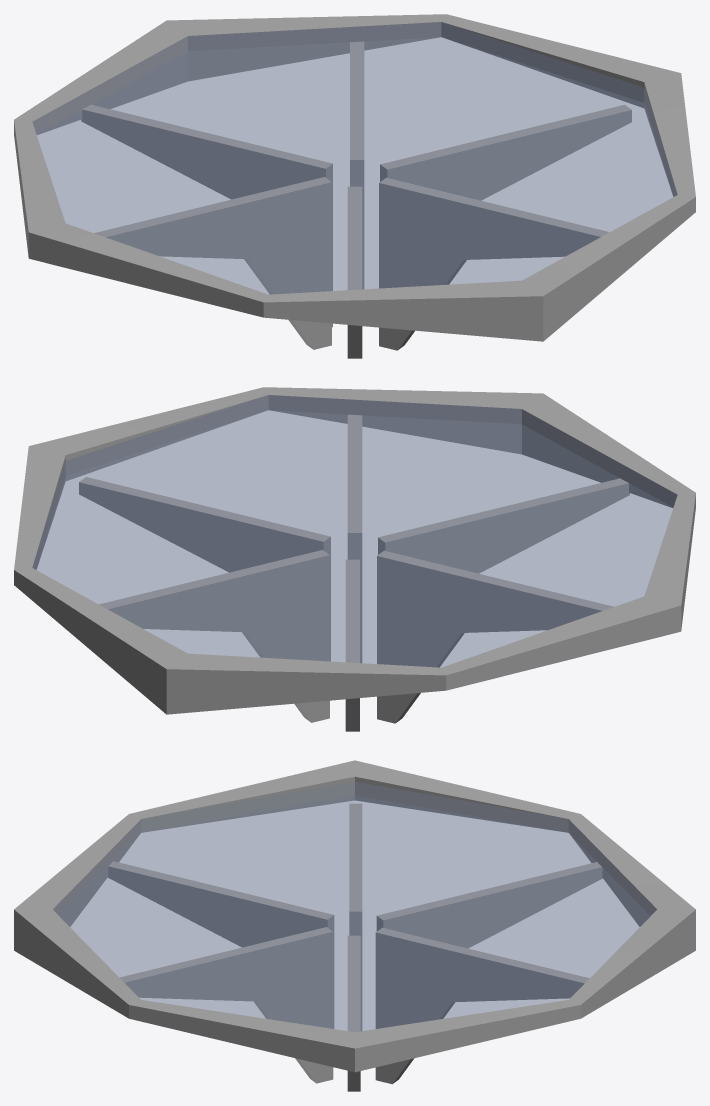
The model's file is CirclePlatform.fbx.
The picture shows the model from 3 angles, top to bottom: view 1: azimuth 30°, elevation 25°; view 2: azimuth 150°, elevation 25°; view 3: azimuth 270°, elevation 25°; orthographic projection. The views are drawn at different scales.
Parts seen in each view (by area): view 1: pCylinder2, pCylinder4, pCube13, pCube15, pCube12, pCube10, pCube11, pCube14; view 2: pCylinder2, pCylinder4, pCube13, pCube11, pCube10, pCube14, pCube15, pCube12; view 3: pCylinder2, pCylinder4, pCube15, pCube11, pCube14, pCube12, pCube13, pCube10.
Part boxes in pixels (box(x1,y1,x2,y2)): pCylinder2: box(33, 22, 677, 294); pCylinder4: box(14, 14, 695, 341); pCube13: box(94, 177, 331, 349); pCube15: box(379, 177, 609, 350); pCube12: box(81, 104, 332, 327); pCube10: box(380, 104, 631, 200); pCube11: box(350, 41, 364, 289); pCube14: box(347, 186, 362, 358); pCylinder2: box(32, 395, 676, 667); pCylinder4: box(14, 387, 695, 714); pCube13: box(377, 550, 613, 723); pCube11: box(99, 550, 329, 722); pCube10: box(79, 477, 330, 661); pCube14: box(378, 478, 629, 573); pCube15: box(347, 414, 362, 663); pCube12: box(345, 559, 359, 731); pCylinder2: box(53, 782, 656, 1031); pCylinder4: box(14, 760, 695, 1072); pCube15: box(119, 927, 333, 1083); pCube11: box(375, 927, 589, 1084); pCube14: box(108, 861, 334, 1028); pCube12: box(376, 862, 602, 948); pCube13: box(349, 803, 362, 1031); pCube10: box(347, 935, 360, 1091).
Size of the model in its own units: 44.79 by 12.08 by 44.79.
